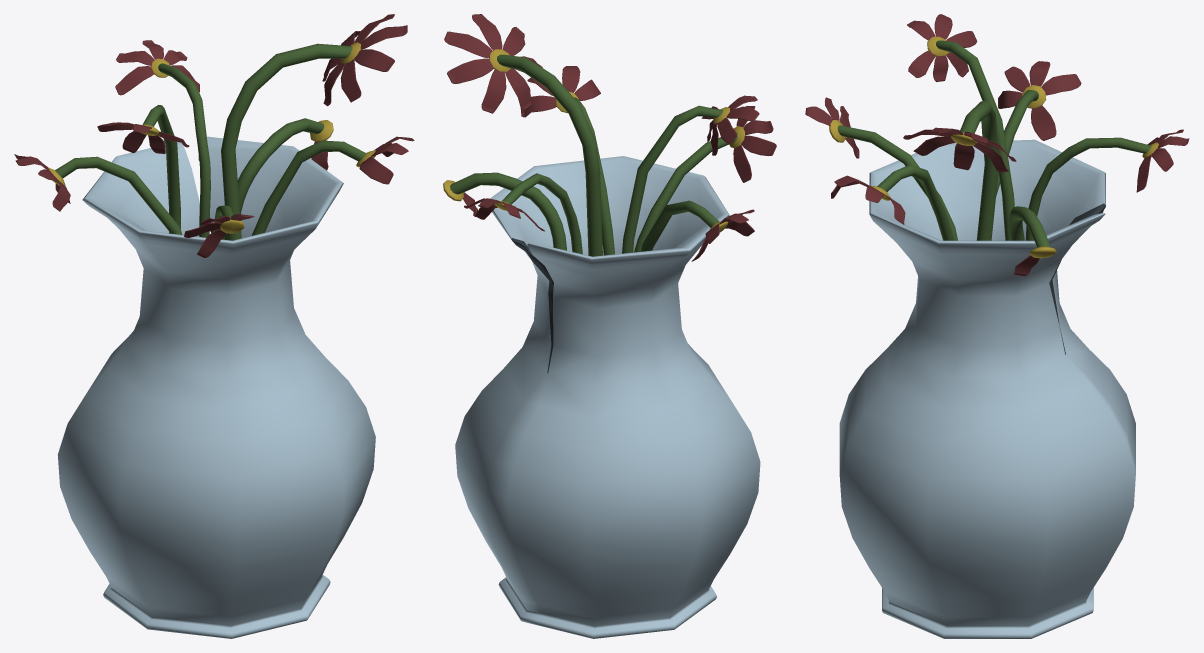
Rendered from Wilted_Flowers.fbx.
3 renders of one model, left to right at view 1: azimuth 30°, elevation 25°; view 2: azimuth 150°, elevation 25°; view 3: azimuth 270°, elevation 25°, orthographic. The views are drawn at different scales.
Visible parts, largest first — view 1: pSphere9; view 2: pSphere9; view 3: pSphere9.
Part boxes in pixels (box(x1,y1,x2,y2)): pSphere9: box(14, 14, 414, 638); pSphere9: box(443, 14, 776, 638); pSphere9: box(805, 14, 1189, 638).
Size of the model in its own units: 8.17 by 12.33 by 7.88.
